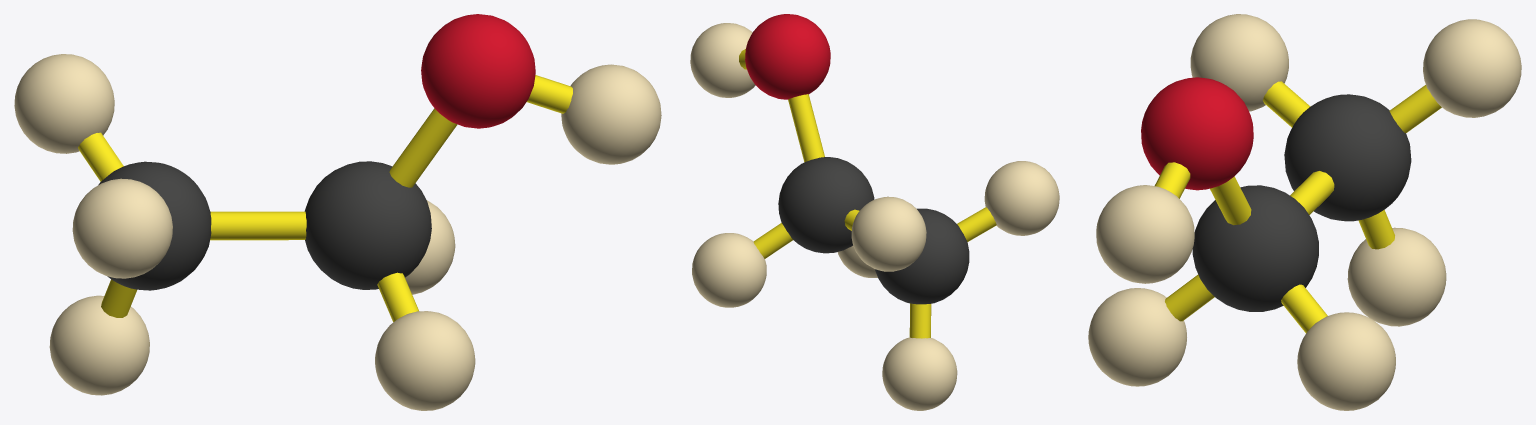
File: pai.FBX
3 renders of one model, left to right at view 1: azimuth 30°, elevation 25°; view 2: azimuth 150°, elevation 25°; view 3: azimuth 270°, elevation 25°, orthographic. The views are drawn at different scales.
Visible parts, largest first — view 1: Sphere050; view 2: Sphere050; view 3: Sphere050.
Boxes of the visible parts, left/top/right/bottom form: Sphere050: left=14, top=14, right=661, bottom=410; Sphere050: left=690, top=14, right=1059, bottom=410; Sphere050: left=1088, top=14, right=1521, bottom=410.
Bounding box in the file's own units: 42.48 × 29.09 × 30.65.
